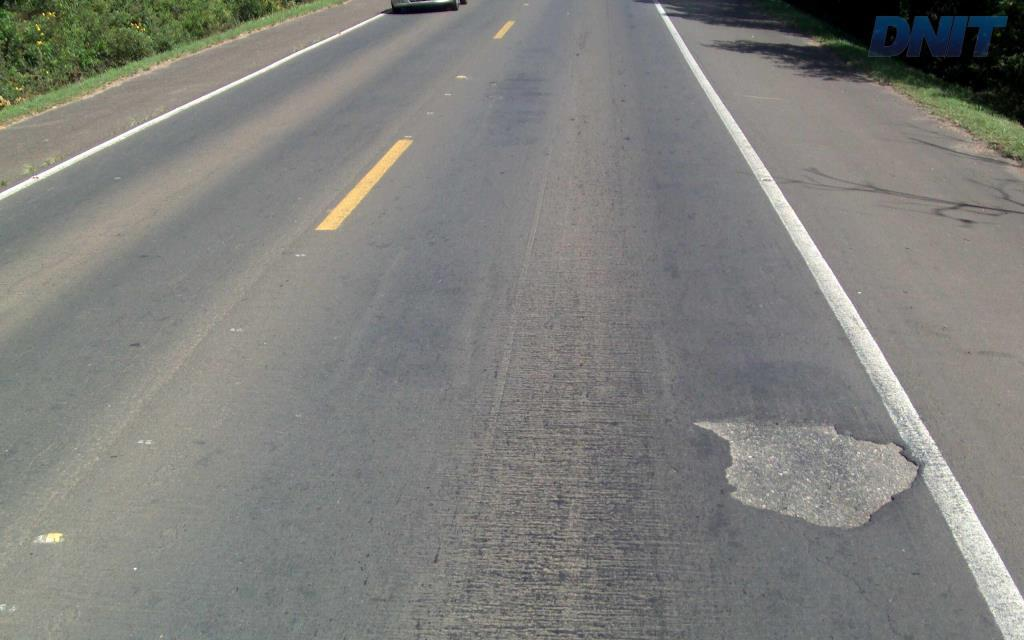pothole: (691, 405, 920, 535)
